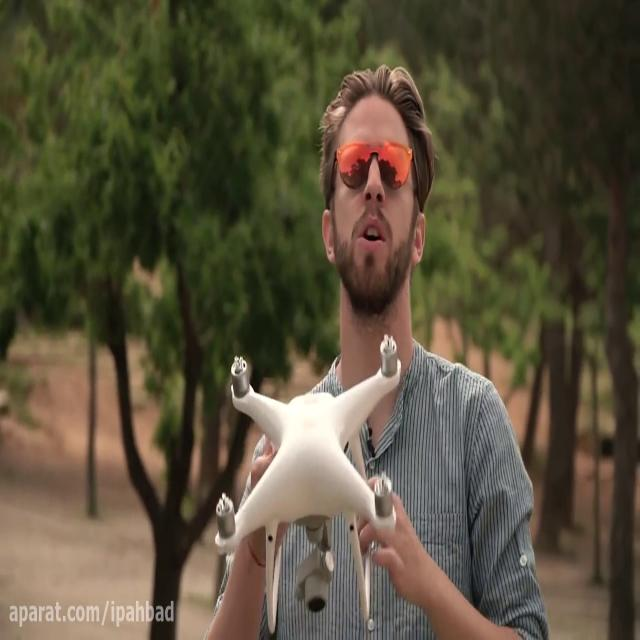drone: (212, 328, 404, 637)
